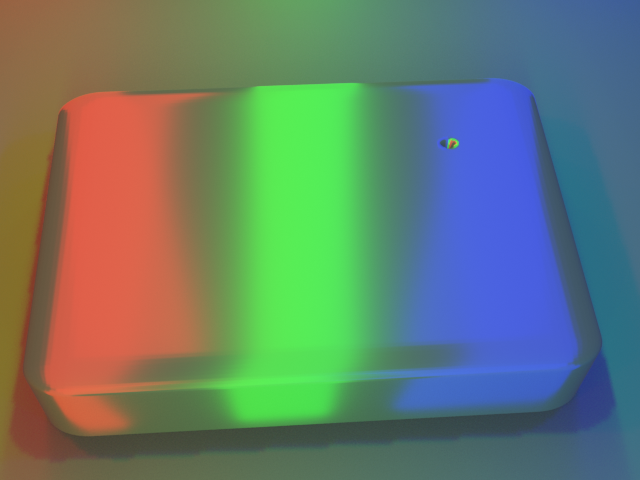dent: (439, 116, 484, 160)
